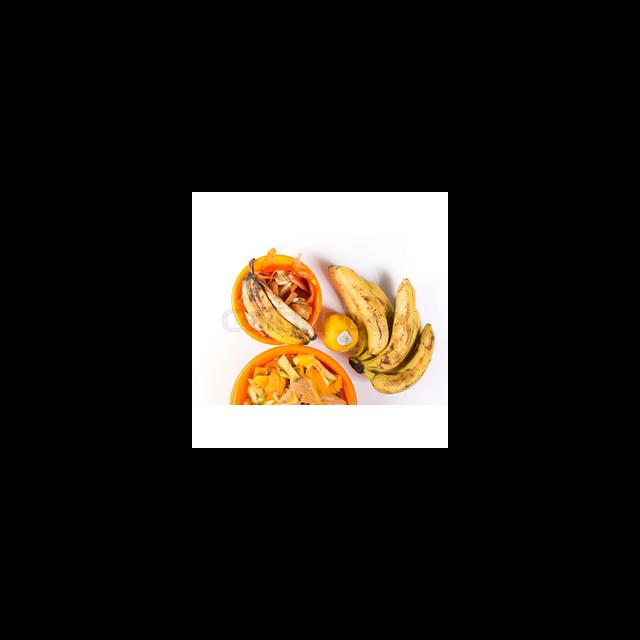food_waste: (327, 261, 434, 395), (243, 361, 349, 404), (243, 273, 313, 332)
